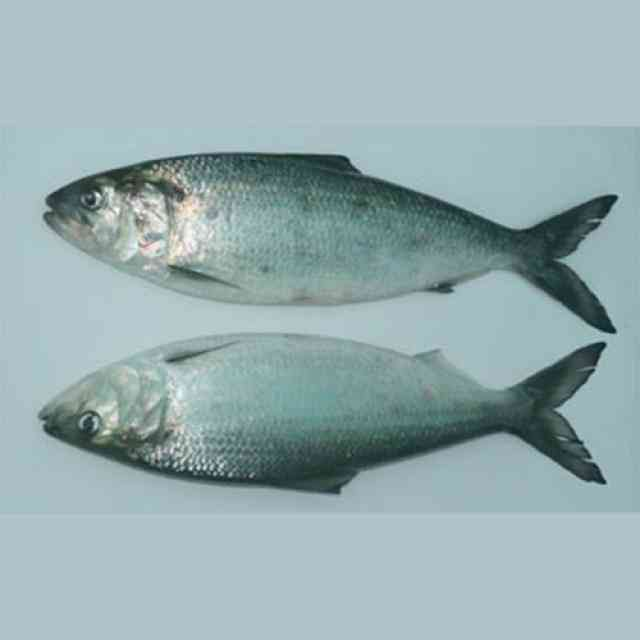Healthy Fish: (34, 144, 635, 331), (28, 329, 626, 501)
